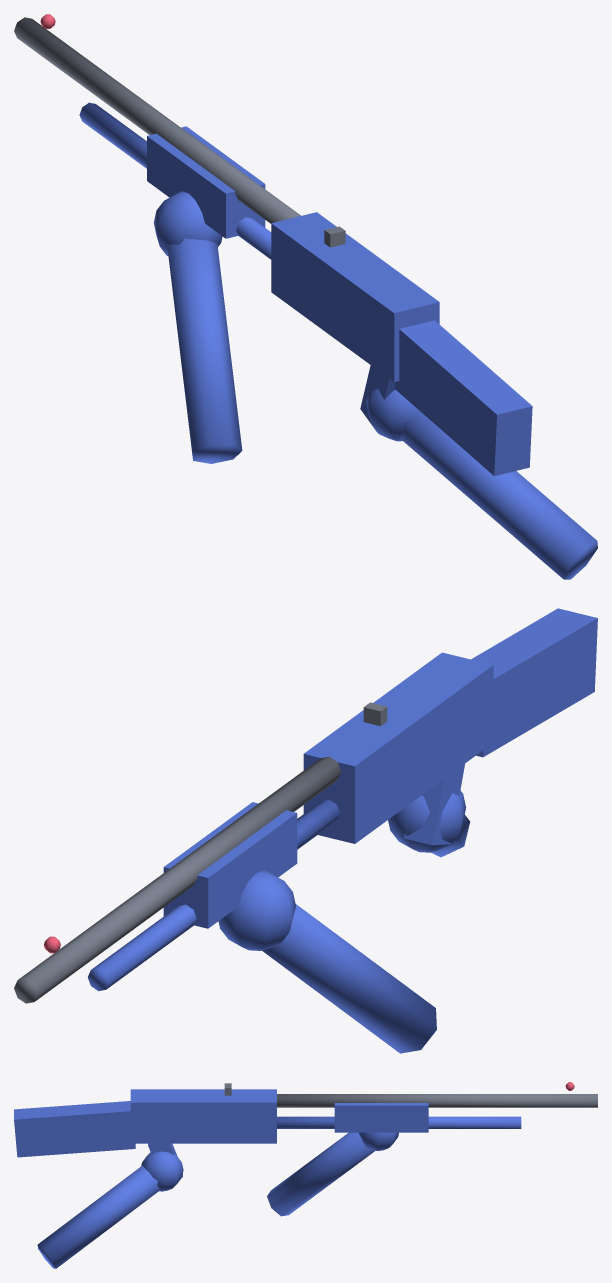
Rendered from shotgun.glb.
The picture shows the model from 3 angles, top to bottom: view 1: azimuth 30°, elevation 25°; view 2: azimuth 150°, elevation 25°; view 3: azimuth 270°, elevation 25°; orthographic projection. The views are drawn at different scales.
Parts seen in each view (by area): view 1: receiver, stock, hand_L, hand_R_arm, barrel, foreEnd, mag_tube, hand_L_fist, hand_R_fist, grip; view 2: receiver, stock, barrel, hand_L, foreEnd, mag_tube, hand_L_fist, hand_R_fist, grip; view 3: receiver, stock, hand_R_arm, barrel, hand_L, foreEnd, mag_tube, hand_R_fist, hand_L_fist, grip.
Part boxes in pixels (bbox=[...]): receiver: bbox=[271, 212, 439, 382]; stock: bbox=[395, 320, 532, 475]; hand_L: bbox=[167, 238, 242, 463]; hand_R_arm: bbox=[400, 411, 597, 579]; barrel: bbox=[14, 17, 300, 223]; foreEnd: bbox=[147, 126, 265, 238]; mag_tube: bbox=[79, 102, 271, 259]; hand_L_fist: bbox=[153, 191, 222, 255]; hand_R_fist: bbox=[366, 388, 419, 441]; grip: bbox=[360, 365, 395, 431]; receiver: bbox=[303, 652, 493, 843]; stock: bbox=[471, 608, 597, 757]; barrel: bbox=[14, 756, 340, 1003]; hand_L: bbox=[262, 904, 436, 1053]; foreEnd: bbox=[163, 802, 297, 928]; mag_tube: bbox=[87, 799, 339, 991]; hand_L_fist: bbox=[218, 870, 295, 950]; hand_R_fist: bbox=[388, 790, 465, 852]; grip: bbox=[404, 764, 464, 845]; receiver: bbox=[130, 1089, 276, 1143]; stock: bbox=[14, 1101, 135, 1157]; hand_R_arm: bbox=[37, 1165, 159, 1268]; barrel: bbox=[277, 1094, 597, 1107]; hand_L: bbox=[267, 1132, 375, 1216]; foreEnd: bbox=[334, 1103, 428, 1132]; mag_tube: bbox=[277, 1116, 521, 1128]; hand_R_fist: bbox=[141, 1151, 183, 1191]; hand_L_fist: bbox=[358, 1132, 398, 1150]; grip: bbox=[148, 1143, 182, 1177].
Size of the model in its own units: 0.4216 by 0.5063 by 1.67.
